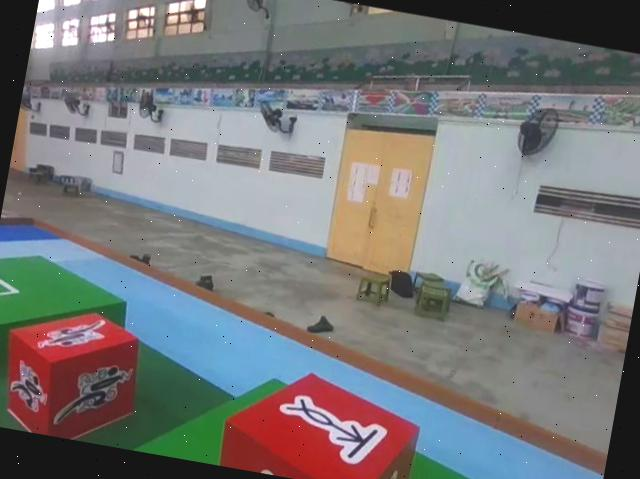R1: (0, 295, 149, 449)
R2 Real: (217, 358, 424, 479)
